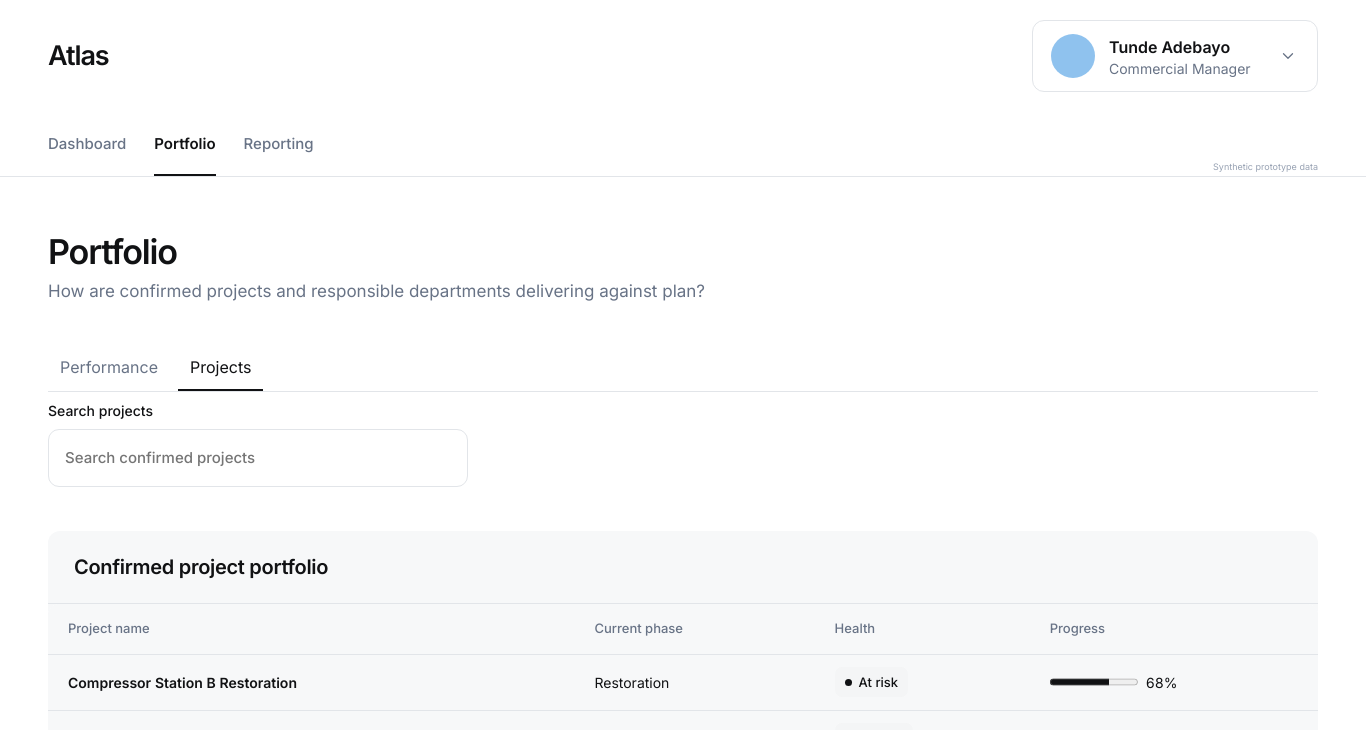
Scenario: route architecture › filters projects and opens the full-page adherence and activity views
Expected: the heading "Portfolio" is shown, x1=48 y1=231 x2=177 y2=272
Type "Compressor" into the search field labelled "Search projects" at (258,458), box x1=48 y1=429 x2=468 y2=487
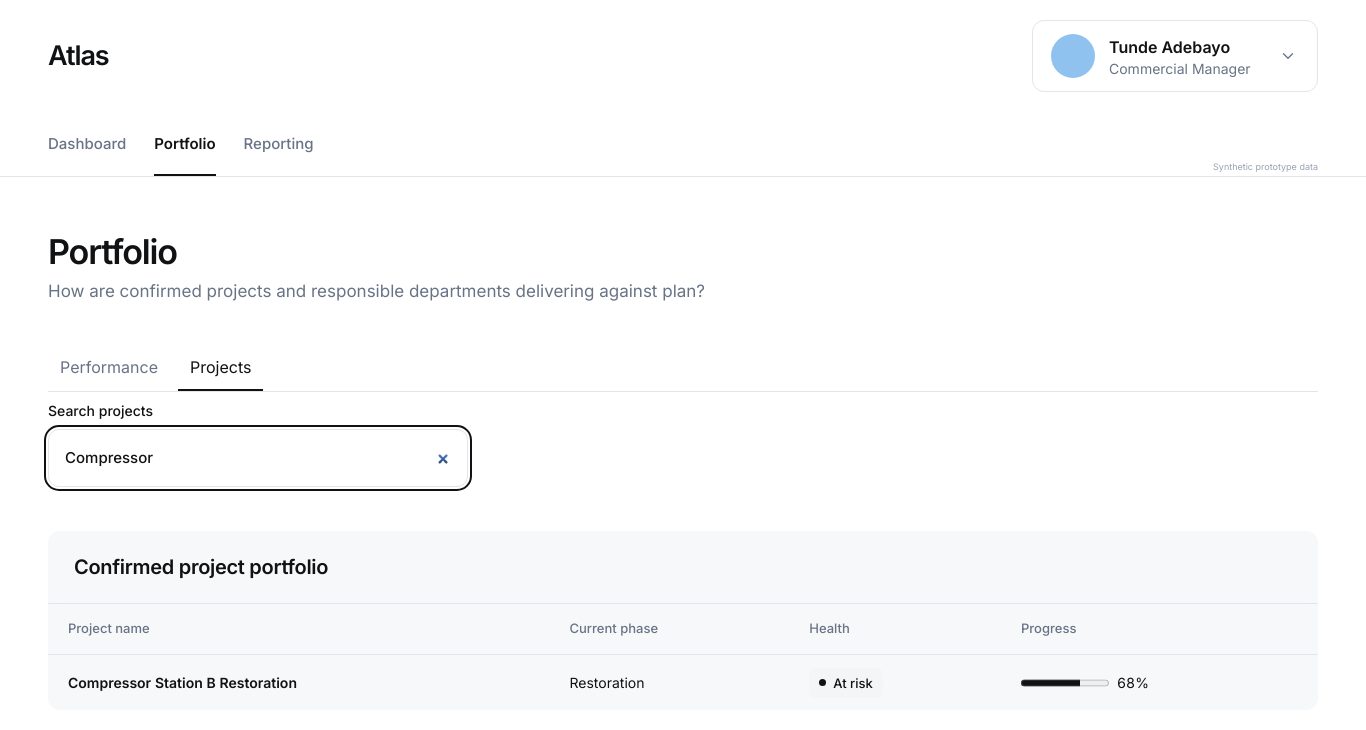
Expected: the table named "Commercial project portfolio" shows "Compressor Station B Restoration", x1=68 y1=674 x2=297 y2=691
Click the row "Compressor Station B Restoration Restoration At risk 68%" at (683,682), box x1=48 y1=654 x2=1318 y2=710
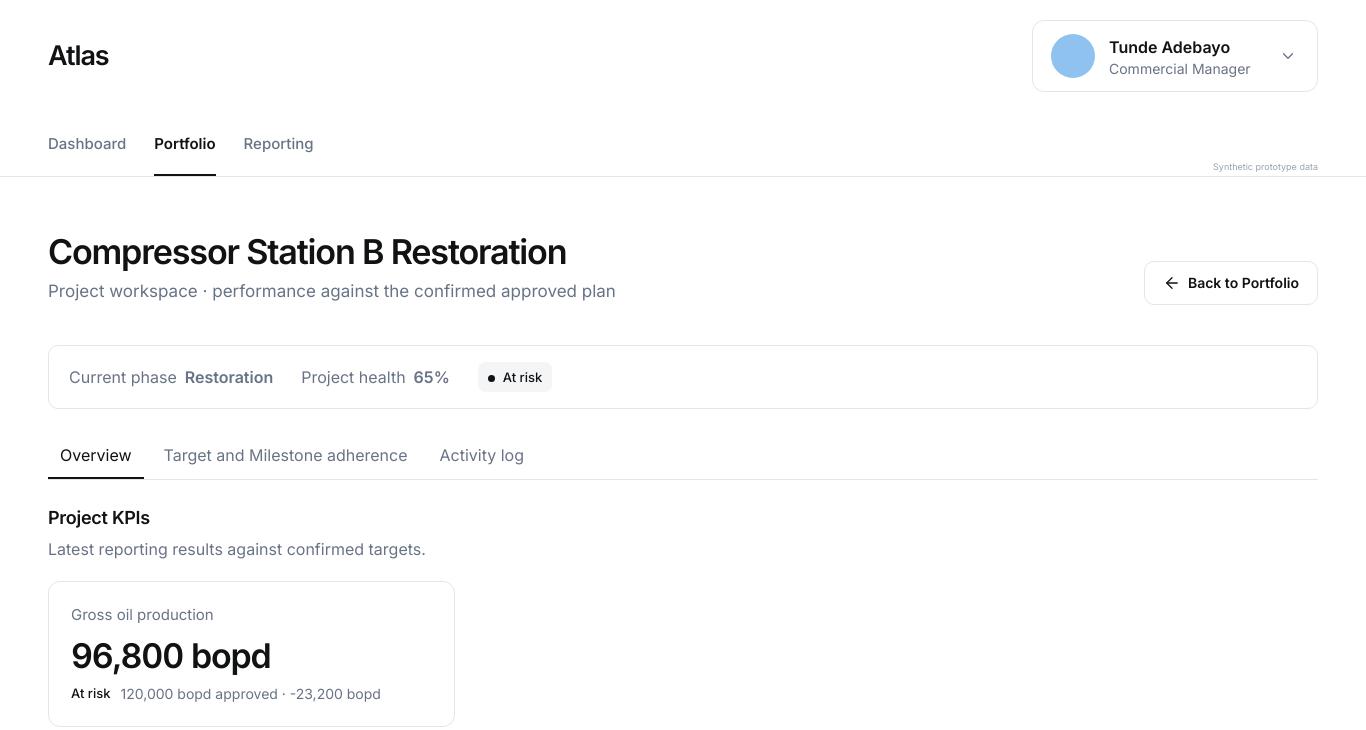
Now the heading "Compressor Station B Restoration" is shown, box x1=48 y1=233 x2=616 y2=271
Click the tab "Target and Milestone adherence" at (286,456), box x1=152 y1=433 x2=420 y2=479
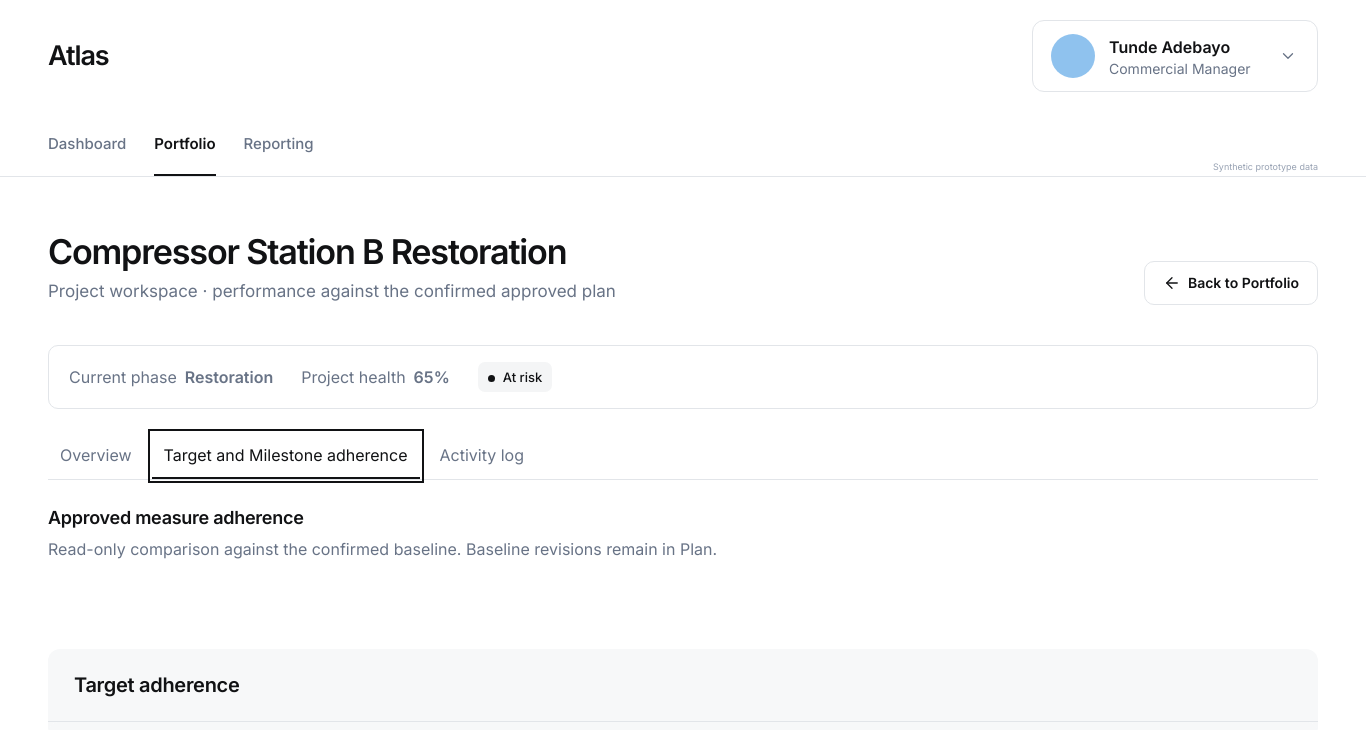
Click the tab "Activity log" at (482,456), box x1=428 y1=433 x2=536 y2=479
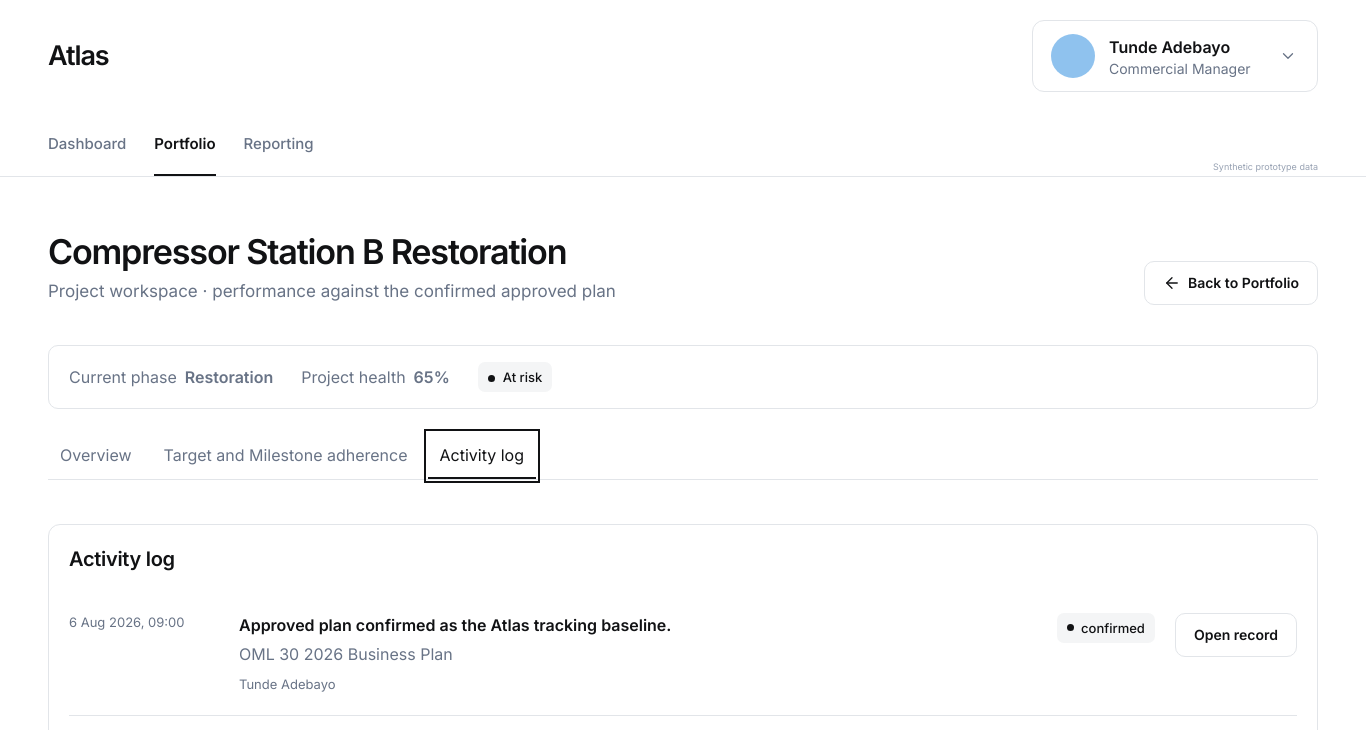
Now the button "Back to Portfolio" is shown, box x1=1144 y1=261 x2=1318 y2=305
Now the text "Approved plan confirmed as the Atlas tracking baseline." is shown, box x1=239 y1=615 x2=671 y2=635
